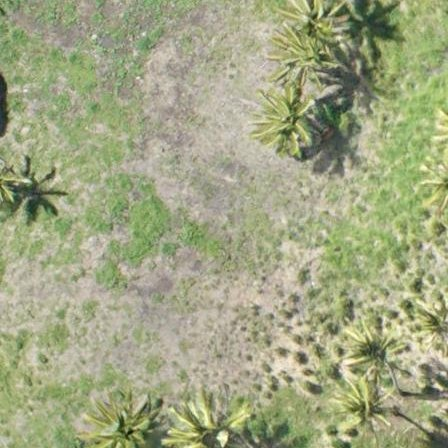palm_tree: (330, 308, 404, 387), (256, 88, 323, 159), (324, 376, 393, 438), (267, 21, 334, 82), (163, 395, 233, 448), (90, 392, 156, 448)
